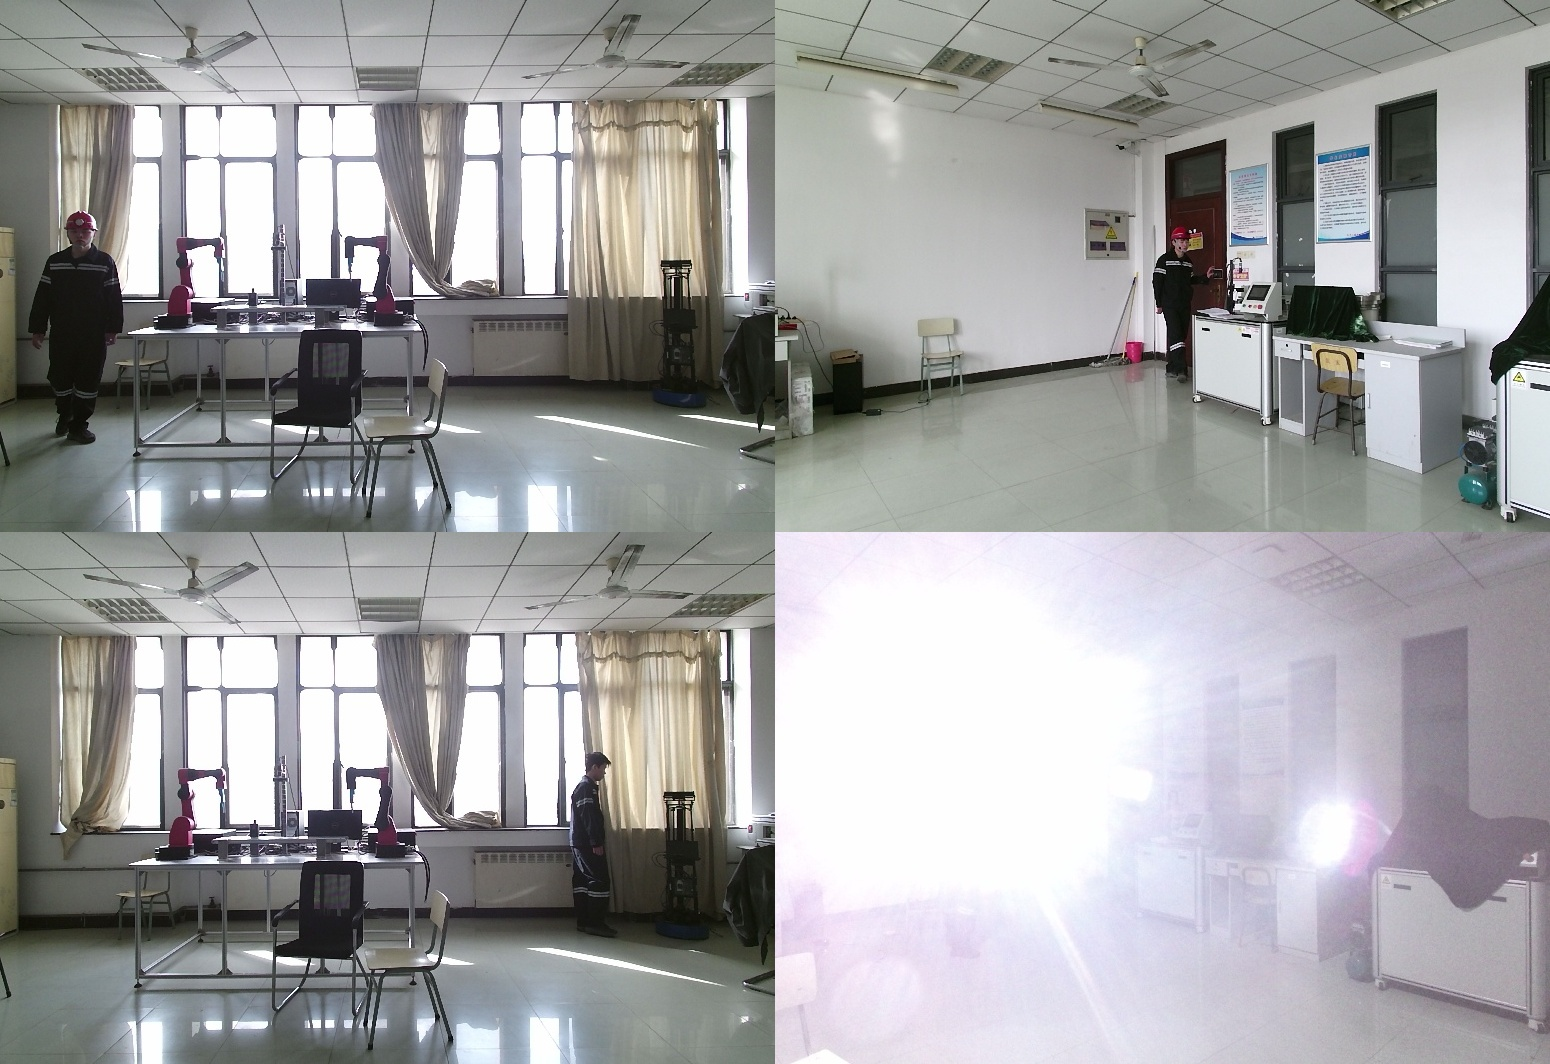person: (29, 212, 126, 445), (919, 752, 999, 975), (571, 753, 636, 942), (1153, 228, 1211, 386)
